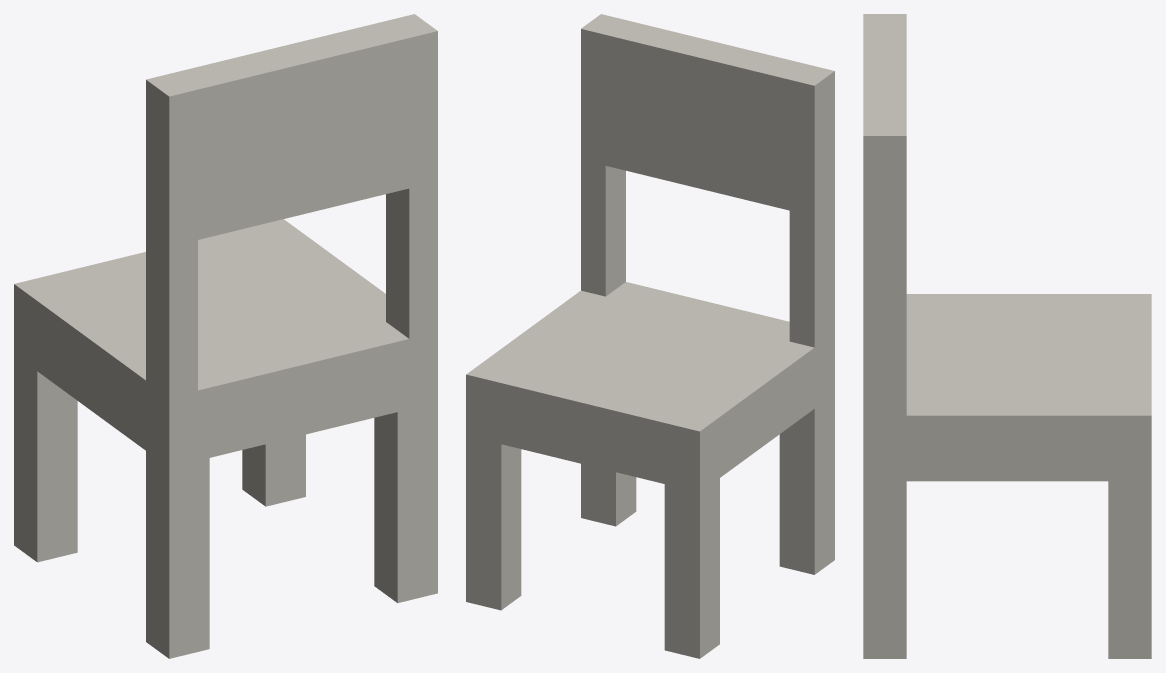
Rendered from white_chair2.fbx.
The picture shows the model from 3 angles, left to right: view 1: azimuth 30°, elevation 25°; view 2: azimuth 150°, elevation 25°; view 3: azimuth 270°, elevation 25°; orthographic projection. The views are drawn at different scales.
Parts seen in each view (by area): view 1: Cube; view 2: Cube; view 3: Cube.
Boxes of the visible parts, x1,y1,x2,y2 form: Cube: [14, 14, 437, 658]; Cube: [466, 14, 834, 658]; Cube: [863, 14, 1151, 658].
Size of the model in its own units: 200 by 400 by 200.
